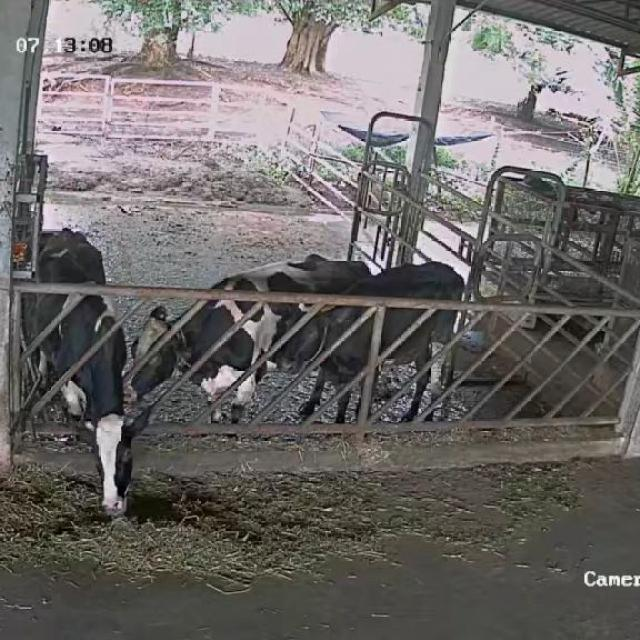feeding: (34, 230, 142, 518)
standing: (118, 254, 379, 433), (272, 252, 465, 425)
